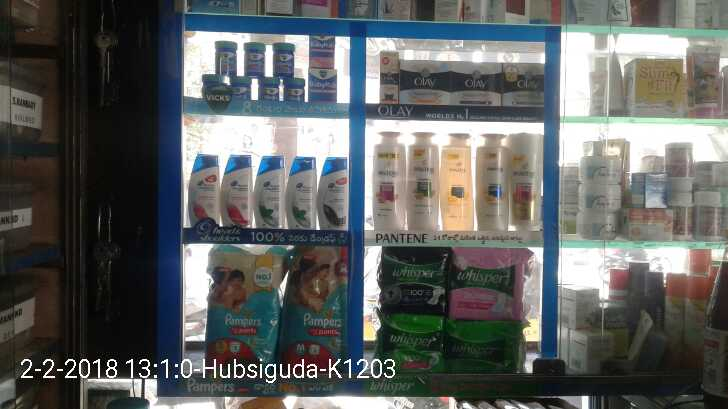vicks: (202, 30, 339, 113)
